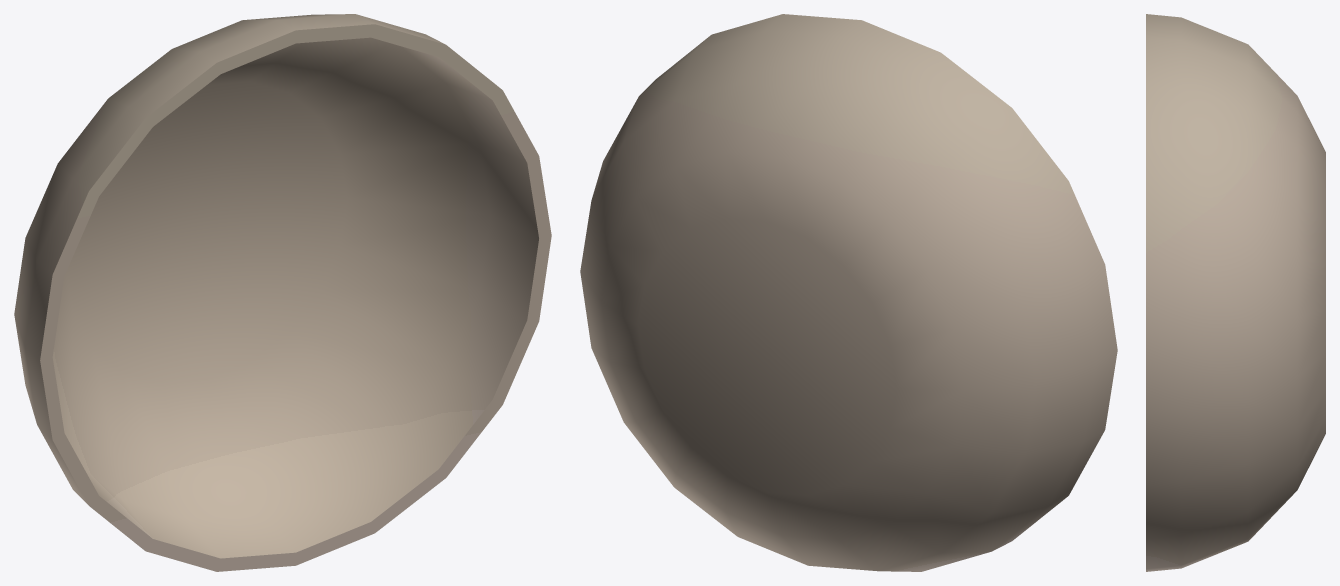
File: nt_2020_dish_03_LOD0.obj
3 renders of one model, left to right at view 1: azimuth 30°, elevation 25°; view 2: azimuth 150°, elevation 25°; view 3: azimuth 270°, elevation 25°, orthographic. The views are drawn at different scales.
Visible parts, largest first — view 1: mtl_nt_2020_dishes_01; view 2: mtl_nt_2020_dishes_01; view 3: mtl_nt_2020_dishes_01.
Part boxes in pixels (box(x1,y1,x2,y2)): mtl_nt_2020_dishes_01: box(14, 14, 551, 571); mtl_nt_2020_dishes_01: box(580, 14, 1117, 571); mtl_nt_2020_dishes_01: box(1146, 14, 1325, 571).
Size of the model in its own units: 12.9 by 12.9 by 4.12.
